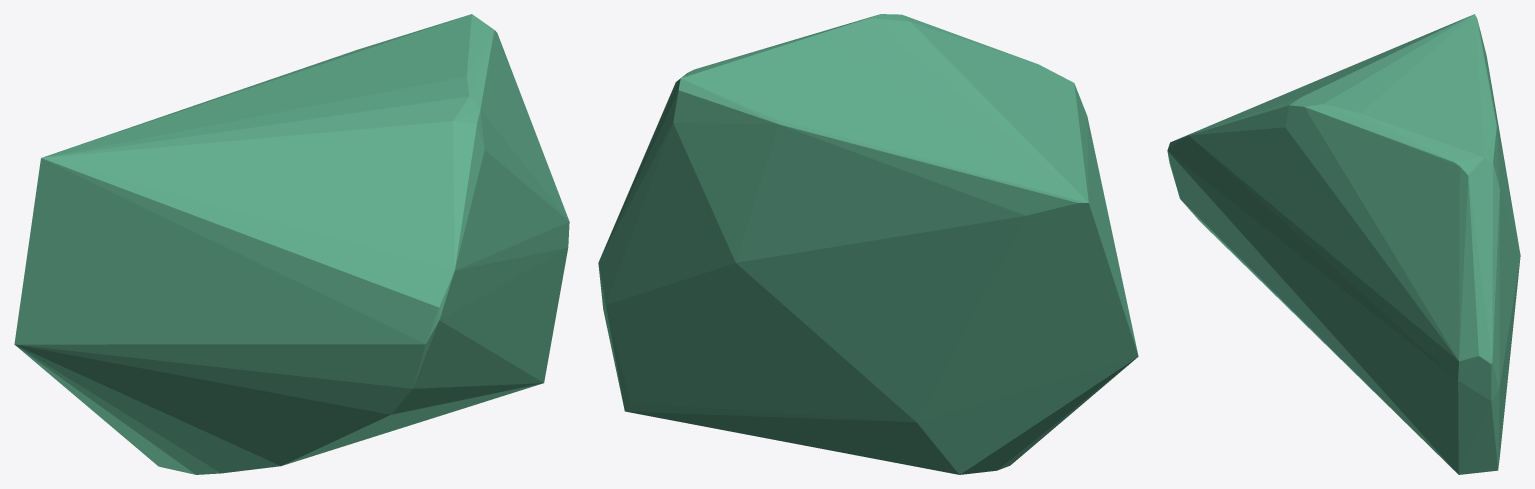
Rendered from testingTool_battery_analyzer_a01.glb.
The picture shows the model from 3 angles, left to right: view 1: azimuth 30°, elevation 25°; view 2: azimuth 150°, elevation 25°; view 3: azimuth 270°, elevation 25°; orthographic projection. The views are drawn at different scales.
Parts seen in each view (by area): view 1: geometry_0; view 2: geometry_0; view 3: geometry_0.
Part boxes in pixels (x1,y1,x2,y2): geometry_0: [14, 14, 569, 474]; geometry_0: [598, 14, 1138, 474]; geometry_0: [1167, 14, 1520, 474].
Bounding box in the file's own units: 0.4783 × 0.3152 × 0.3267.
